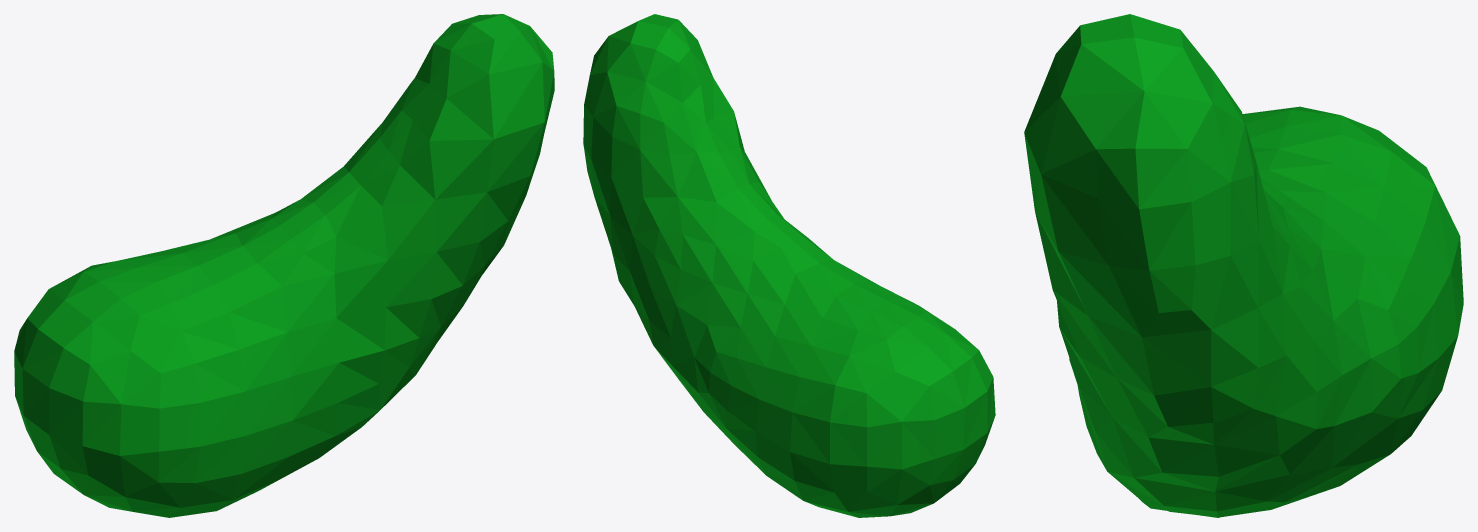
Rendered from Marrow.glb.
The picture shows the model from 3 angles, left to right: view 1: azimuth 30°, elevation 25°; view 2: azimuth 150°, elevation 25°; view 3: azimuth 270°, elevation 25°; orthographic projection. The views are drawn at different scales.
Visible parts, largest first — view 1: Sphere; view 2: Sphere; view 3: Sphere.
Part boxes in pixels (x1=…): Sphere: x1=14, y1=14, x2=554, y2=517; Sphere: x1=583, y1=14, x2=995, y2=517; Sphere: x1=1024, y1=14, x2=1463, y2=517.
Bounding box in the file's own units: 1.63 × 1.44 × 0.8773.
